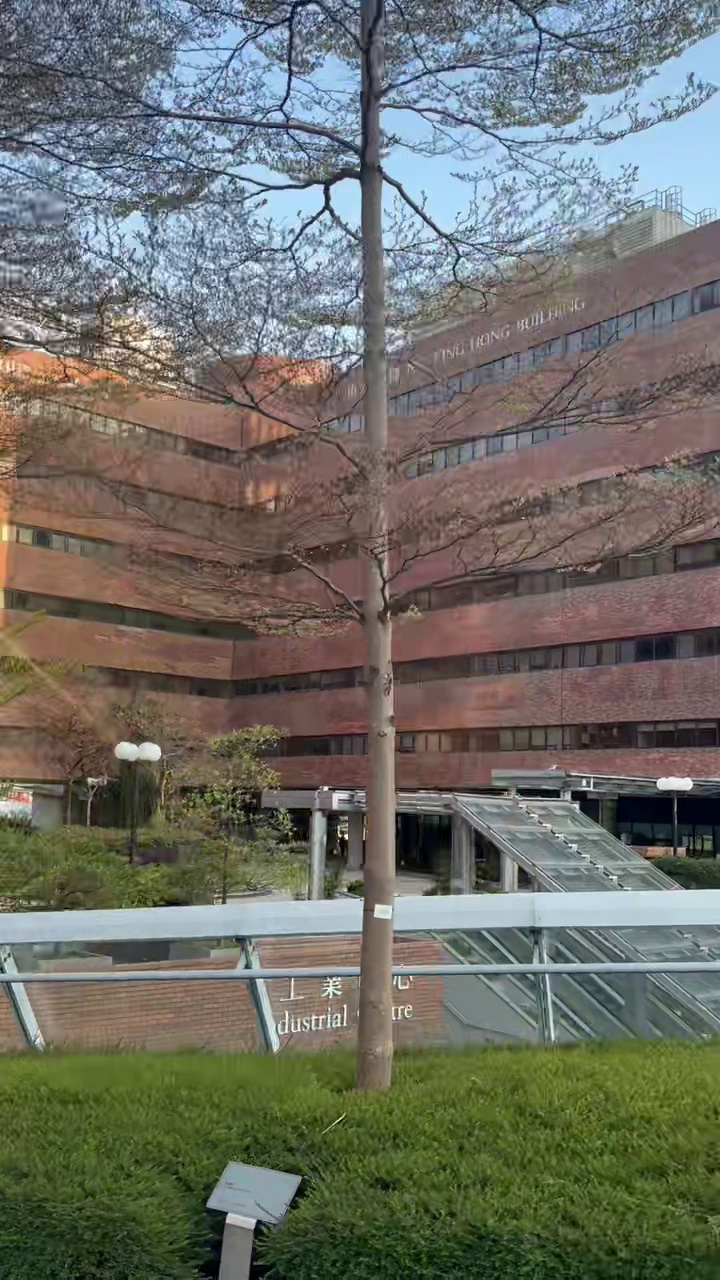Terminalia mantaly: (0, 0, 717, 1087)
